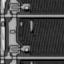dust: (30, 30, 34, 33), (20, 39, 24, 42), (31, 18, 34, 21)
